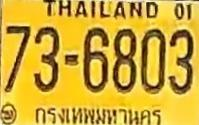0: (140, 28, 166, 92)
3: (33, 26, 59, 91), (168, 28, 193, 94)
6: (82, 27, 109, 92)
7: (6, 24, 30, 90)
8: (112, 28, 136, 92)
BKK: (31, 103, 164, 125)
